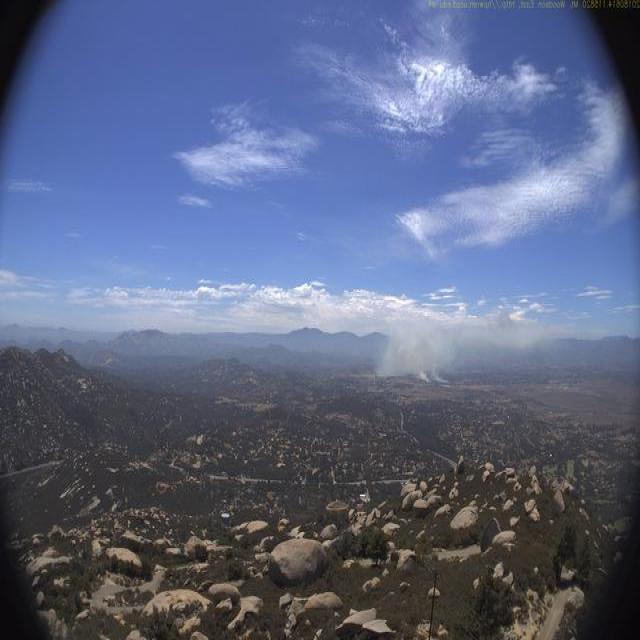Smoke: (374, 299, 542, 388)
